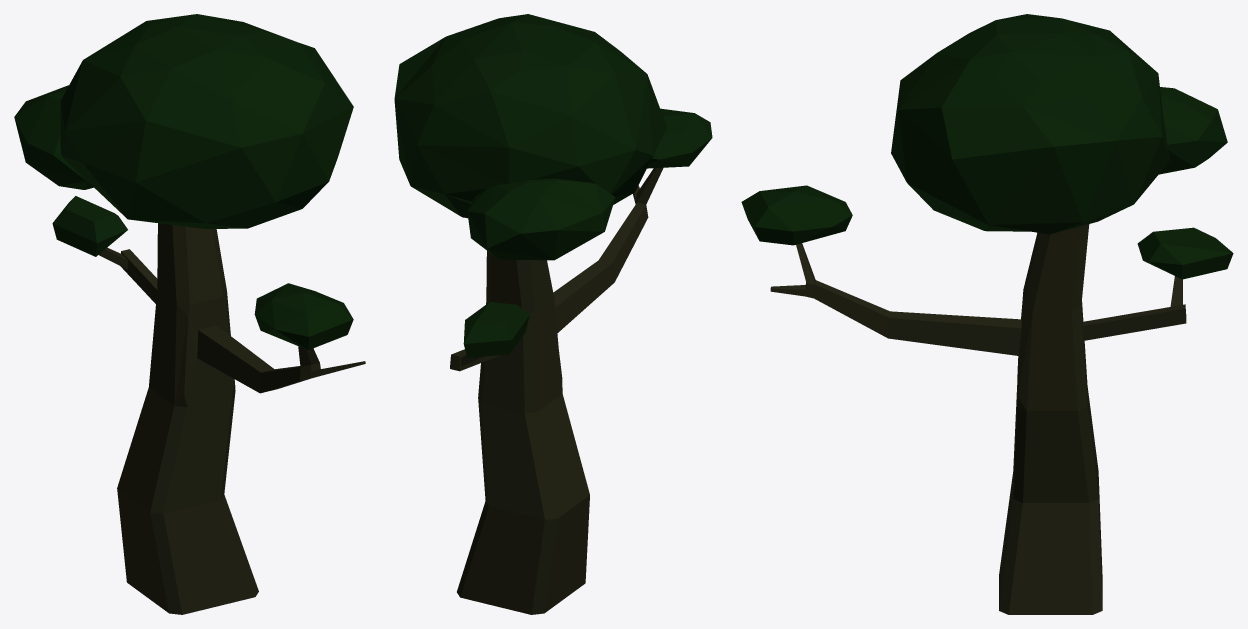
File: arbre2.FBX
3 renders of one model, left to right at view 1: azimuth 30°, elevation 25°; view 2: azimuth 150°, elevation 25°; view 3: azimuth 270°, elevation 25°, orthographic. The views are drawn at different scales.
Visible parts, largest first — view 1: Sphere007, Box003, Sphere005, Sphere006; view 2: Sphere007, Box003, Sphere006, Sphere005; view 3: Sphere007, Box003, Sphere005, Sphere006.
Boxes of the visible parts, <box> form: Sphere007: <box>14,14,353,228</box>; Box003: <box>99,223,365,614</box>; Sphere005: <box>254,283,353,350</box>; Sphere006: <box>52,196,127,256</box>; Sphere007: <box>394,14,666,260</box>; Box003: <box>450,167,663,614</box>; Sphere006: <box>463,302,529,357</box>; Sphere005: <box>647,108,712,168</box>; Sphere007: <box>891,14,1227,234</box>; Box003: <box>770,224,1186,614</box>; Sphere005: <box>741,185,852,245</box>; Sphere006: <box>1137,227,1233,279</box>.
Bounding box in the file's own units: 3.81 × 8.12 × 6.51.
